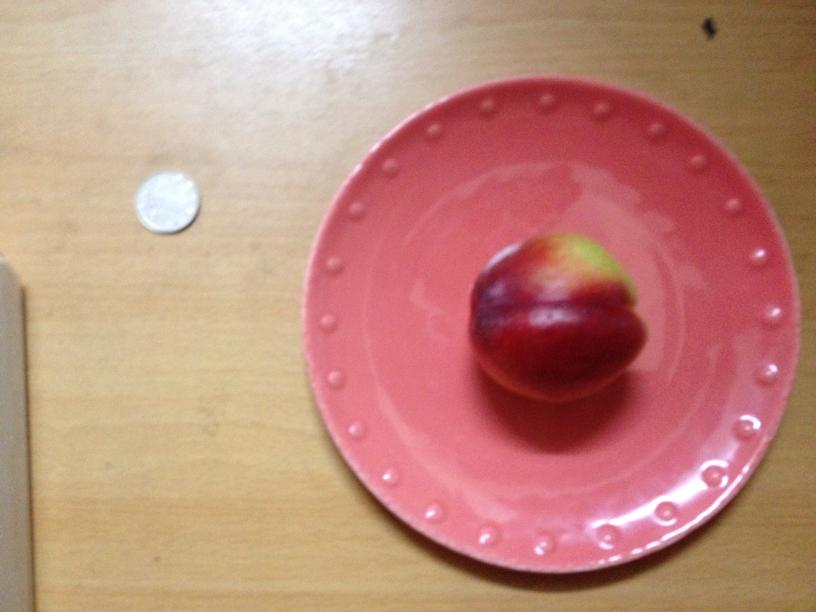coin: (128, 171, 200, 233)
peach: (465, 231, 649, 403)
